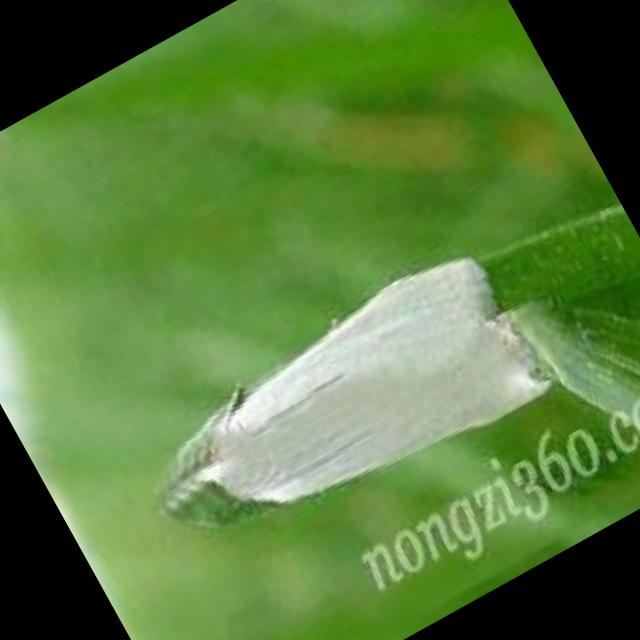stem-borer: (117, 229, 565, 594)
